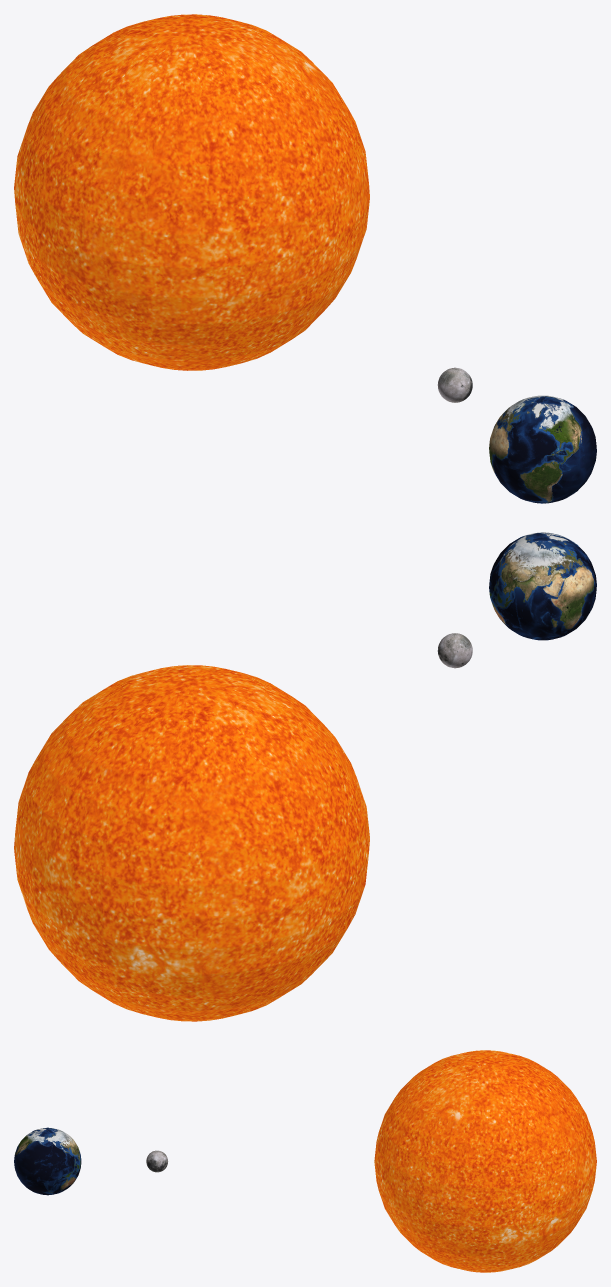
File: SolarSystemAnime03.glb
The picture shows the model from 3 angles, top to bottom: view 1: azimuth 30°, elevation 25°; view 2: azimuth 150°, elevation 25°; view 3: azimuth 270°, elevation 25°; orthographic projection. The views are drawn at different scales.
Visible parts, largest first — view 1: theSun.001, theEarth, theMoon; view 2: theSun.001, theEarth, theMoon; view 3: theSun.001, theEarth, theMoon.
Part boxes in pixels (x1=…): theSun.001: x1=14, y1=14, x2=369, y2=370; theEarth: x1=489, y1=395, x2=596, y2=503; theMoon: x1=437, y1=367, x2=472, y2=402; theSun.001: x1=14, y1=665, x2=369, y2=1021; theEarth: x1=489, y1=532, x2=596, y2=640; theMoon: x1=437, y1=633, x2=472, y2=668; theSun.001: x1=374, y1=1050, x2=596, y2=1272; theEarth: x1=14, y1=1127, x2=81, y2=1195; theMoon: x1=146, y1=1150, x2=167, y2=1172.
Size of the model in its own units: 20.34 by 20.34 by 53.25.
Materials: 3 (3 with a texture image).
